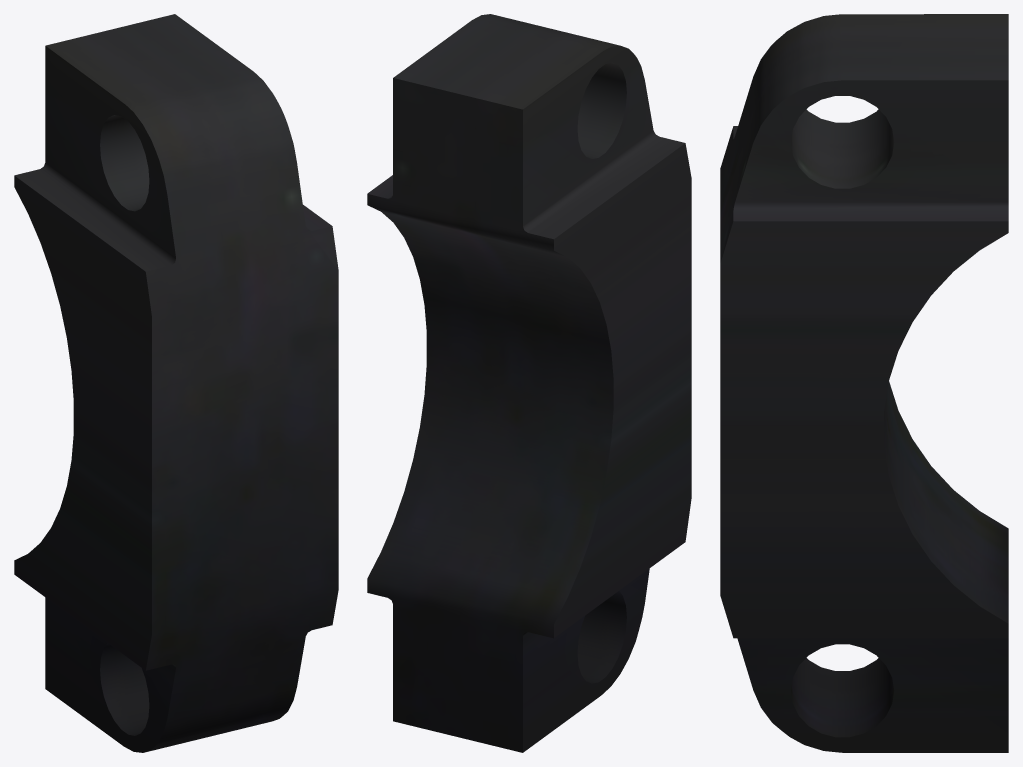
File: Synchro_Clamp.dae
3 views of the same model, side by side, from view 1: azimuth 30°, elevation 25°; view 2: azimuth 150°, elevation 25°; view 3: azimuth 270°, elevation 25° (orthographic). The views are drawn at different scales.
Visible parts, largest first — view 1: Synchro_Clamp; view 2: Synchro_Clamp; view 3: Synchro_Clamp.
Boxes of the visible parts, <box> form: Synchro_Clamp: <box>14,14,338,752</box>; Synchro_Clamp: <box>367,14,691,752</box>; Synchro_Clamp: <box>720,14,1008,752</box>.
Size of the model in its own units: 0.00891 by 0.0114 by 0.0293.
1 material, 1 textured.
